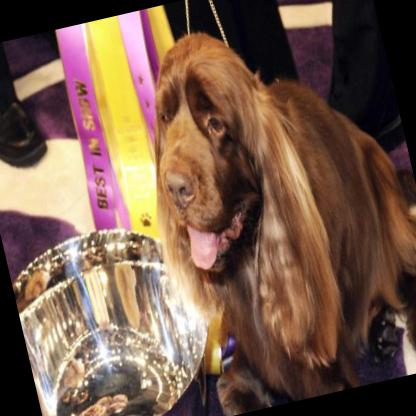Sussex_spaniel: (112, 0, 416, 416)
